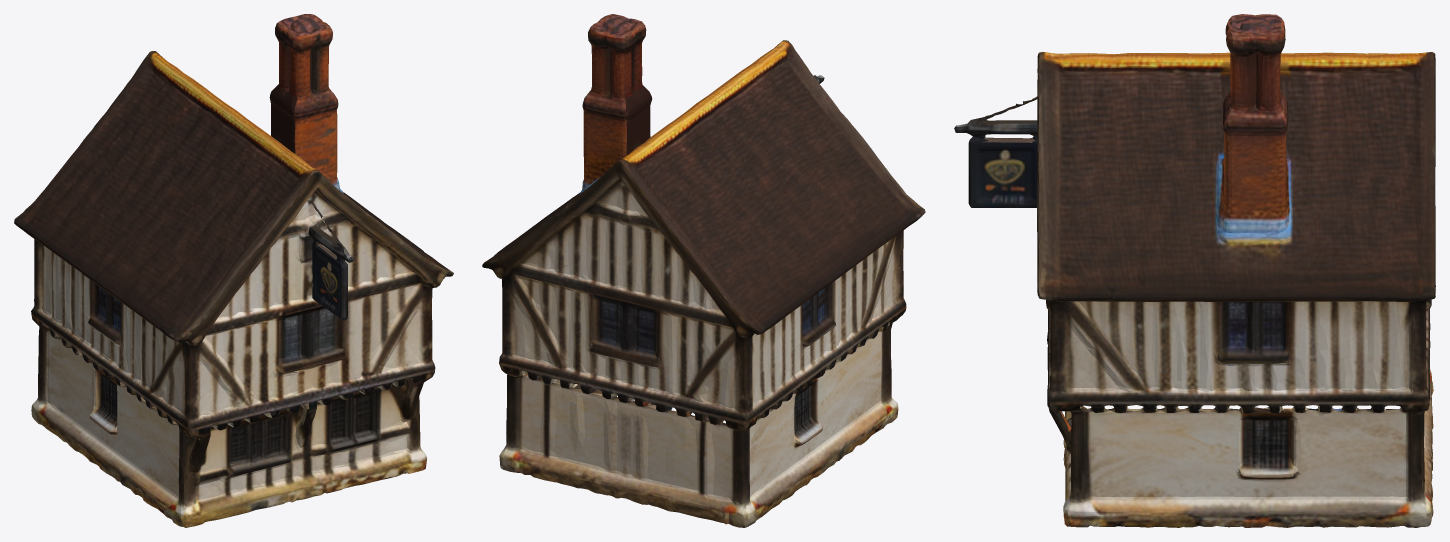
File: mdl_tavern_001.glb
3 views of the same model, side by side, from view 1: azimuth 30°, elevation 25°; view 2: azimuth 150°, elevation 25°; view 3: azimuth 270°, elevation 25° (orthographic). The views are drawn at different scales.
Parts seen in each view (by area): view 1: tmpeqcpzfsr.ply; view 2: tmpeqcpzfsr.ply; view 3: tmpeqcpzfsr.ply.
Part boxes in pixels (x1=…): tmpeqcpzfsr.ply: x1=14, y1=14, x2=453, y2=527; tmpeqcpzfsr.ply: x1=482, y1=14, x2=925, y2=527; tmpeqcpzfsr.ply: x1=954, y1=14, x2=1435, y2=527.
Bounding box in the file's own units: 0.717 × 0.9896 × 0.8986.
1 material, 1 textured.
